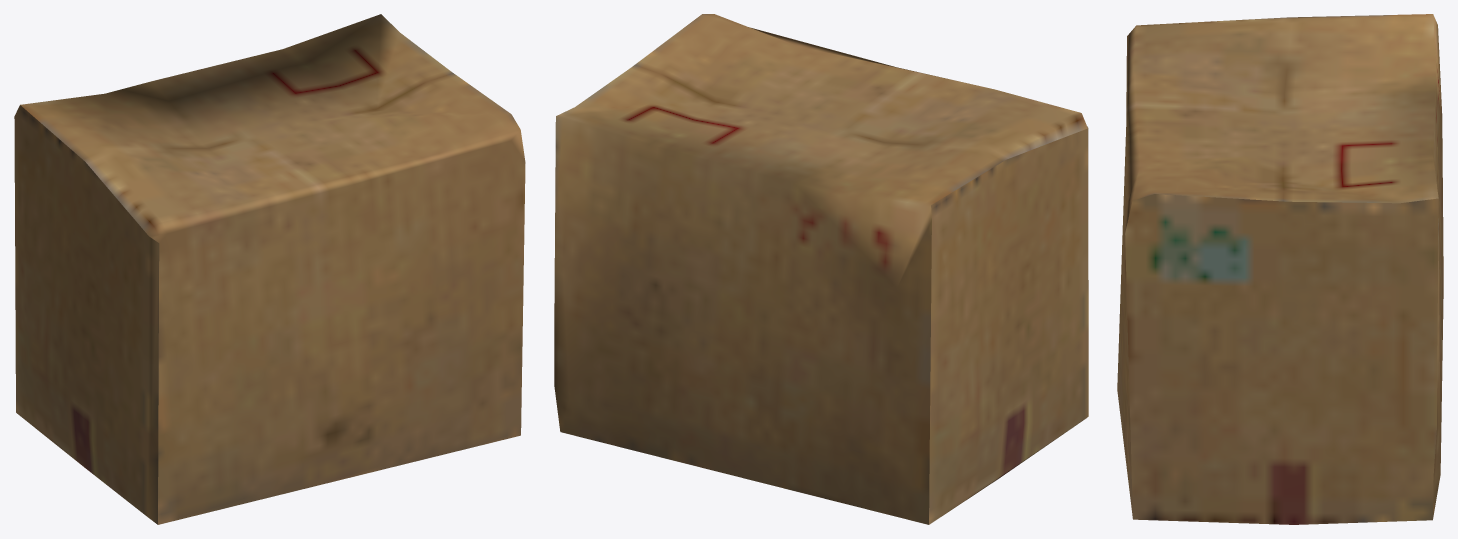
File: 057_cardboard06a.fbx
3 views of the same model, side by side, from view 1: azimuth 30°, elevation 25°; view 2: azimuth 150°, elevation 25°; view 3: azimuth 270°, elevation 25° (orthographic). The views are drawn at different scales.
Visible parts, largest first — view 1: LOD_1_Group_0_Sub_1__sm36_057_Cardboard06A_A_Mat; view 2: LOD_1_Group_0_Sub_1__sm36_057_Cardboard06A_A_Mat; view 3: LOD_1_Group_0_Sub_1__sm36_057_Cardboard06A_A_Mat.
Part boxes in pixels (x1,y1,x2,y2): LOD_1_Group_0_Sub_1__sm36_057_Cardboard06A_A_Mat: (14,14,525,524); LOD_1_Group_0_Sub_1__sm36_057_Cardboard06A_A_Mat: (554,14,1088,524); LOD_1_Group_0_Sub_1__sm36_057_Cardboard06A_A_Mat: (1117,14,1443,524).
Bounding box in the file's own units: 0.6662 × 0.5284 × 0.4753.
